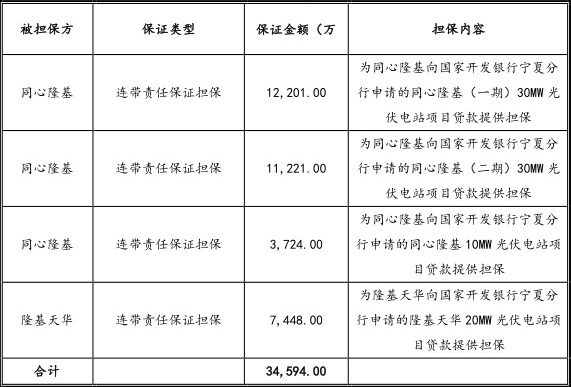column: (357, 2, 561, 387), (116, 3, 222, 387), (257, 3, 337, 387), (20, 4, 74, 387)
row: (2, 21, 571, 38), (1, 84, 571, 100), (1, 161, 571, 174), (1, 263, 571, 276), (1, 288, 571, 301), (2, 238, 571, 251), (1, 313, 570, 326), (3, 212, 571, 225), (5, 364, 571, 377), (8, 339, 571, 352), (1, 61, 571, 73), (4, 138, 571, 150), (1, 112, 571, 123), (1, 188, 571, 199)
